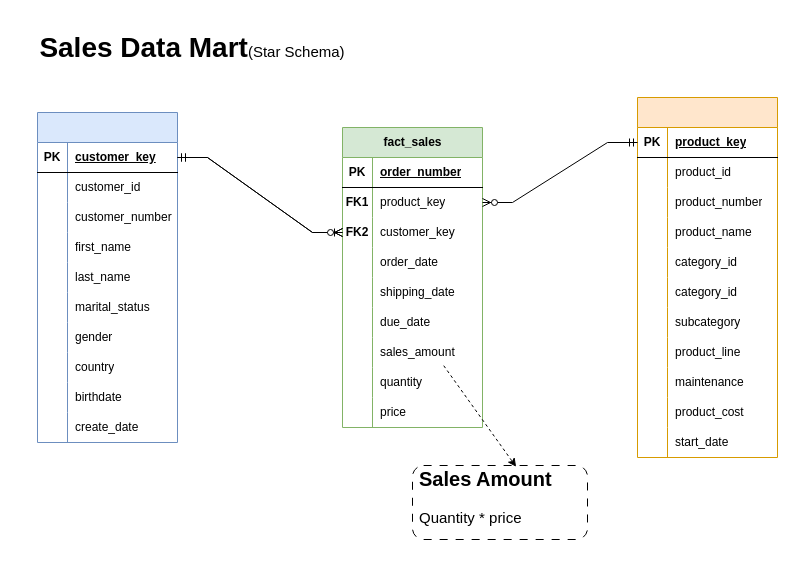
This 795x567 diagram has some shape labels left out. The shapes that lost their labels are listed below. From the top down, each one's box as (x1, y1, x2, y2) in pixels, then its label:
(36, 112, 178, 442): dim_customers
(636, 96, 778, 458): dim_products
